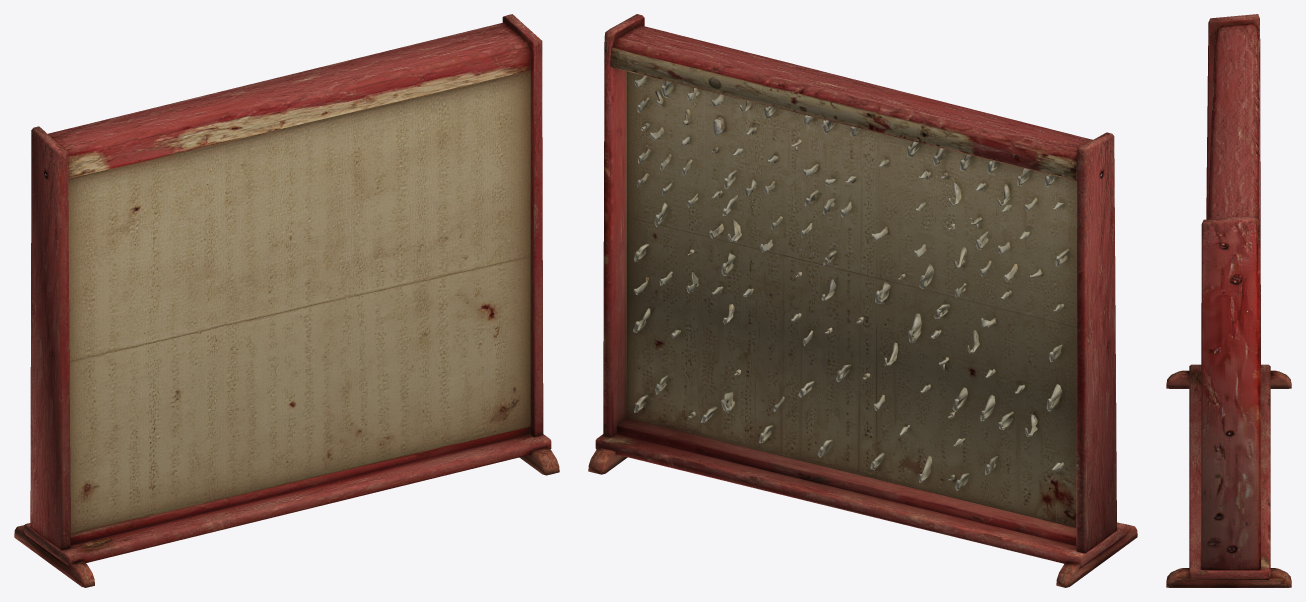
File: theme-prize-display-v05.glb
The picture shows the model from 3 angles, left to right: view 1: azimuth 30°, elevation 25°; view 2: azimuth 150°, elevation 25°; view 3: azimuth 270°, elevation 25°; orthographic projection. The views are drawn at different scales.
Parts seen in each view (by area): view 1: tripo_node_75ecc429-23e6-4e1b-9c83-ead8f1f31ee1; view 2: tripo_node_75ecc429-23e6-4e1b-9c83-ead8f1f31ee1; view 3: tripo_node_75ecc429-23e6-4e1b-9c83-ead8f1f31ee1.
Boxes of the visible parts, x1=… form: tripo_node_75ecc429-23e6-4e1b-9c83-ead8f1f31ee1: x1=14, y1=14, x2=559, y2=587; tripo_node_75ecc429-23e6-4e1b-9c83-ead8f1f31ee1: x1=588, y1=14, x2=1137, y2=587; tripo_node_75ecc429-23e6-4e1b-9c83-ead8f1f31ee1: x1=1166, y1=14, x2=1291, y2=587.
Bounding box in the file's own units: 2.15 × 1.8 × 0.5522.
Materials: 1 (1 with a texture image).
